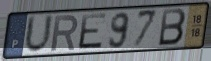7: (134, 8, 159, 50)
9: (107, 11, 131, 49)
B: (157, 8, 188, 48)
E: (77, 12, 108, 51)
R: (49, 14, 80, 53)
U: (23, 13, 55, 55)
